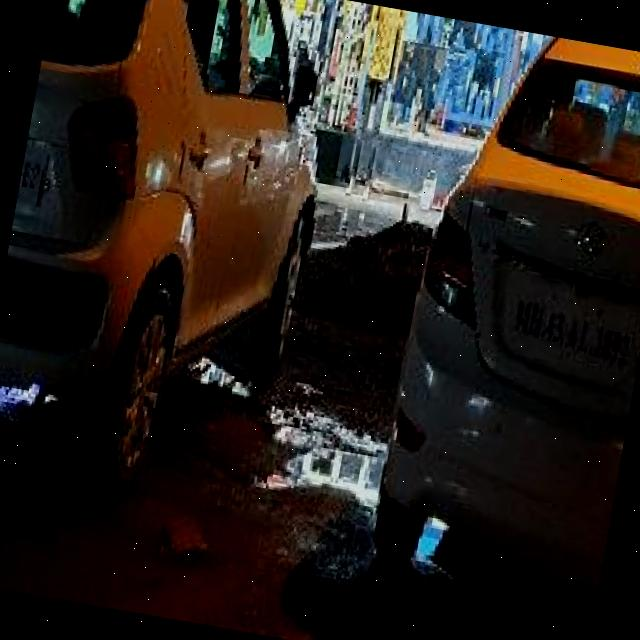stagnation: (224, 391, 394, 524)
